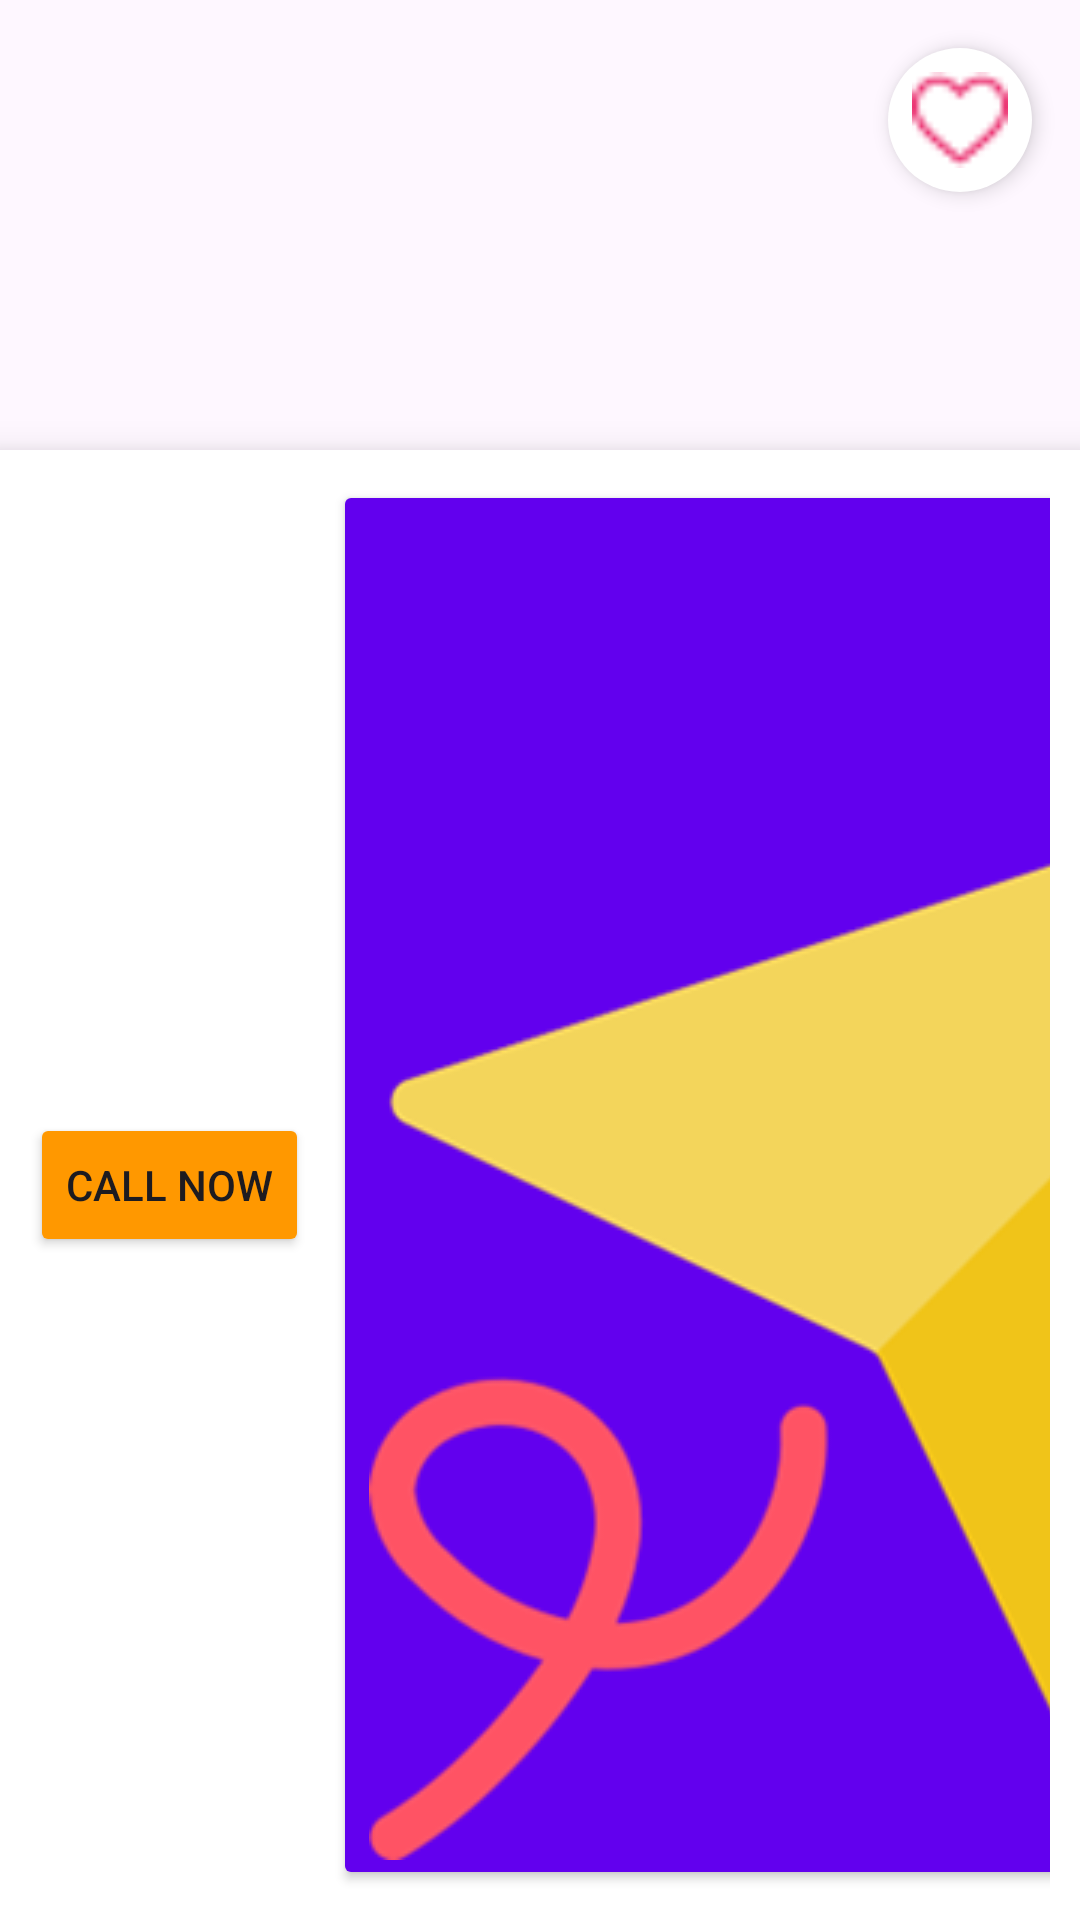

Icon click points for this 1080 × 1920 phone screenshot, format [x,y]:
Toggle Favorite: [960,120]
